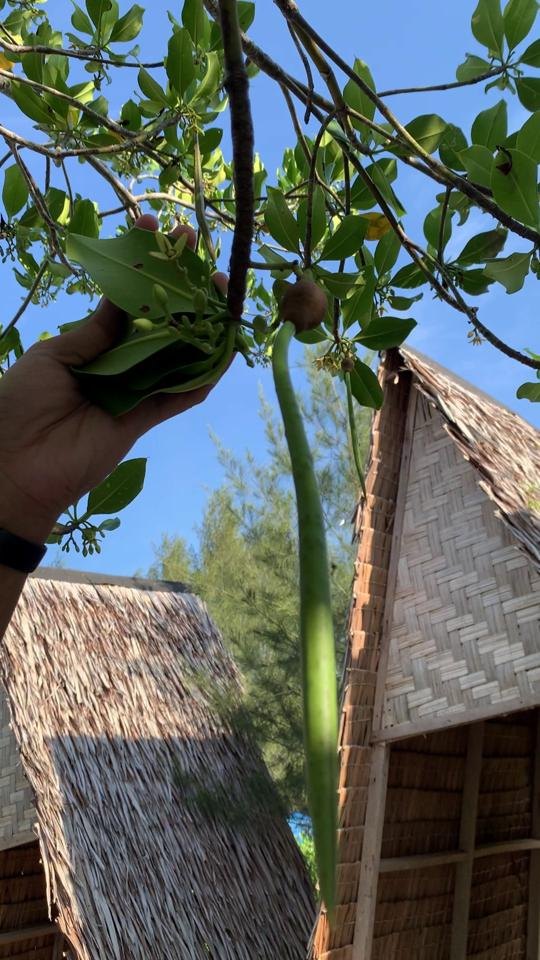mentah: (249, 270, 360, 948)
